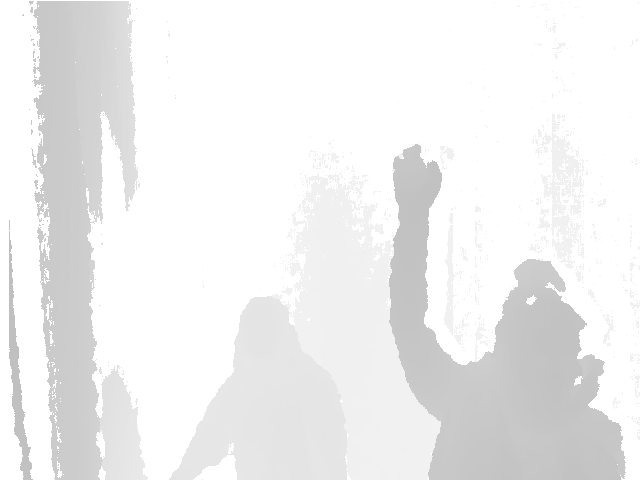hand: (392, 144, 443, 213)
head: (493, 258, 587, 395), (234, 296, 300, 374)
person: (387, 144, 627, 480), (167, 297, 349, 480)
